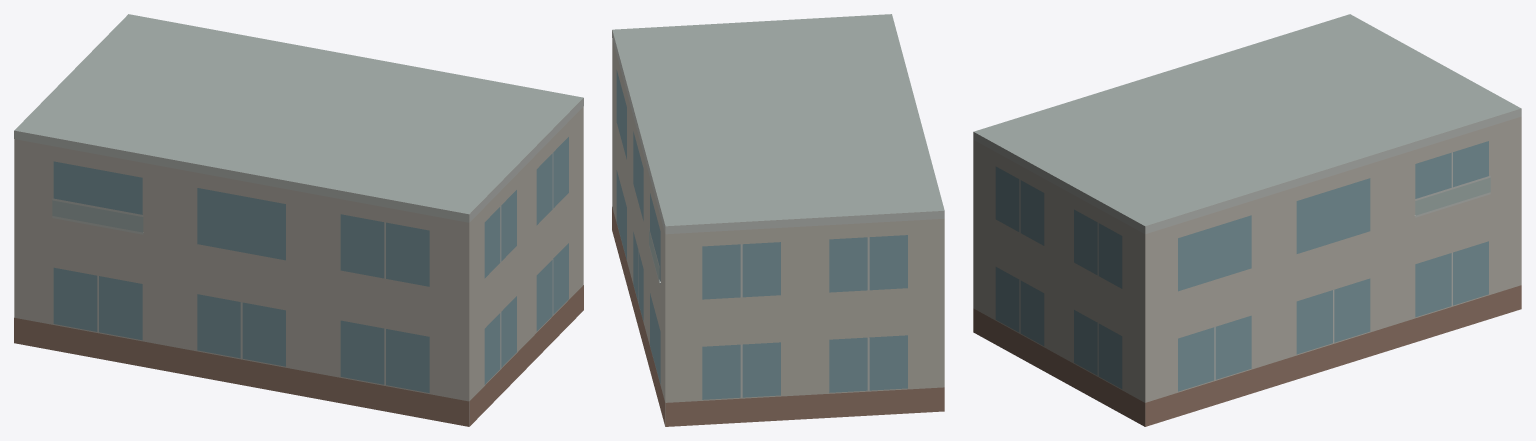
The model's file is survey-upis-32891977.glb.
3 views of the same model, side by side, from view 1: azimuth 30°, elevation 25°; view 2: azimuth 150°, elevation 25°; view 3: azimuth 270°, elevation 25° (orthographic). The views are drawn at different scales.
Parts seen in each view (by area): view 1: survey-upis-32891977.tmp; view 2: survey-upis-32891977.tmp; view 3: survey-upis-32891977.tmp.
Boxes of the visible parts, box(x1,y1,x2,y2) form: survey-upis-32891977.tmp: box(14, 14, 583, 426); survey-upis-32891977.tmp: box(612, 14, 944, 426); survey-upis-32891977.tmp: box(973, 14, 1521, 426).
Bounding box in the file's own units: 13.85 × 6.1 × 15.12.
